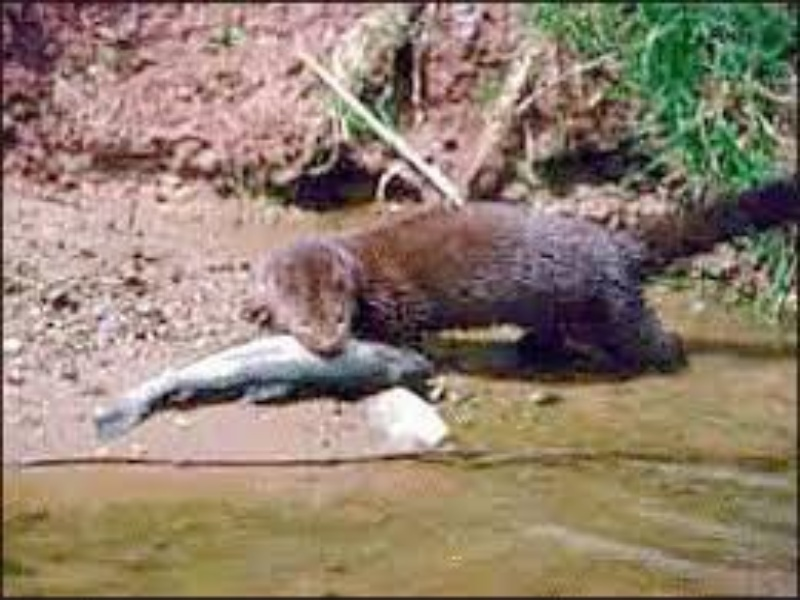minkish: (242, 166, 800, 374)
